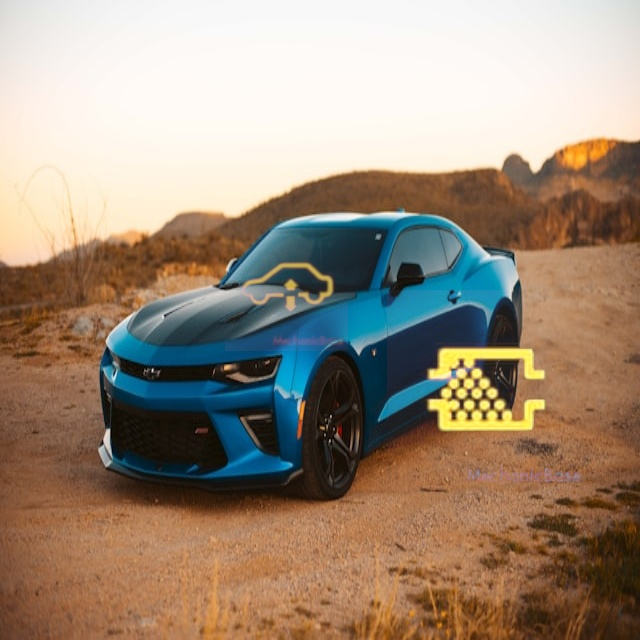symbol: (387, 290, 589, 492), (225, 228, 348, 351)
